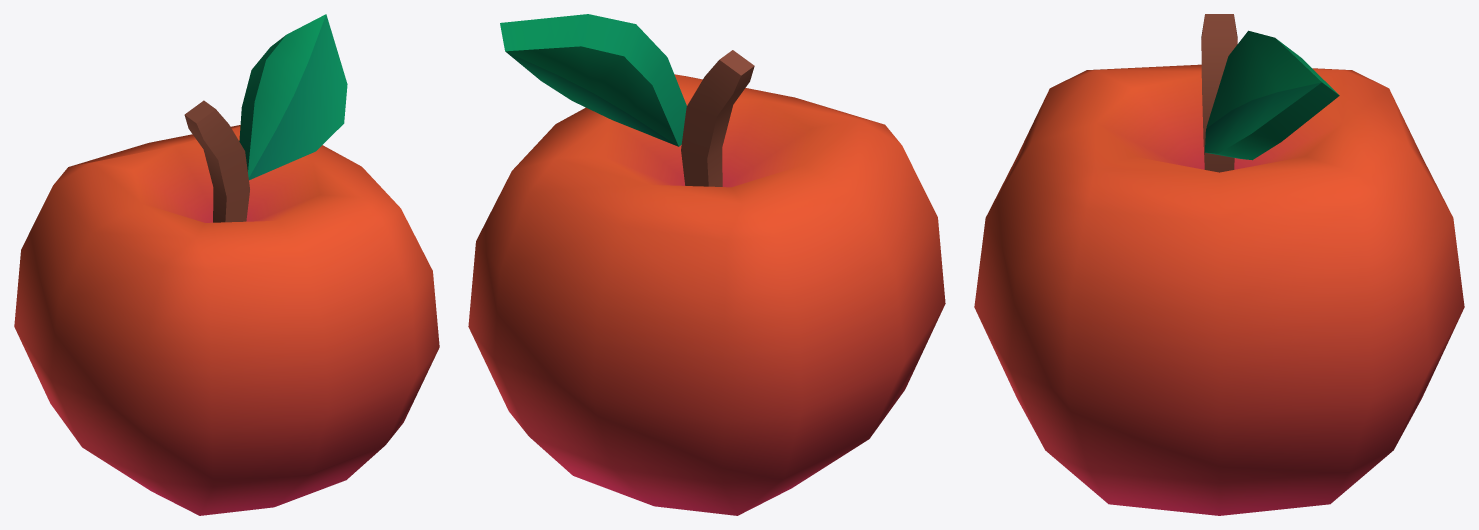
Rendered from prop_apple_red.glb.
3 views of the same model, side by side, from view 1: azimuth 30°, elevation 25°; view 2: azimuth 150°, elevation 25°; view 3: azimuth 270°, elevation 25° (orthographic). The views are drawn at different scales.
Parts seen in each view (by area): view 1: Food_Apple_Red; view 2: Food_Apple_Red; view 3: Food_Apple_Red.
Boxes of the visible parts, left/top/right/bottom form: Food_Apple_Red: left=14, top=14, right=439, bottom=515; Food_Apple_Red: left=468, top=14, right=945, bottom=515; Food_Apple_Red: left=974, top=14, right=1464, bottom=515.
Bounding box in the file's own units: 0.45 × 0.5 × 0.45.
Materials: 1 (1 with a texture image).
